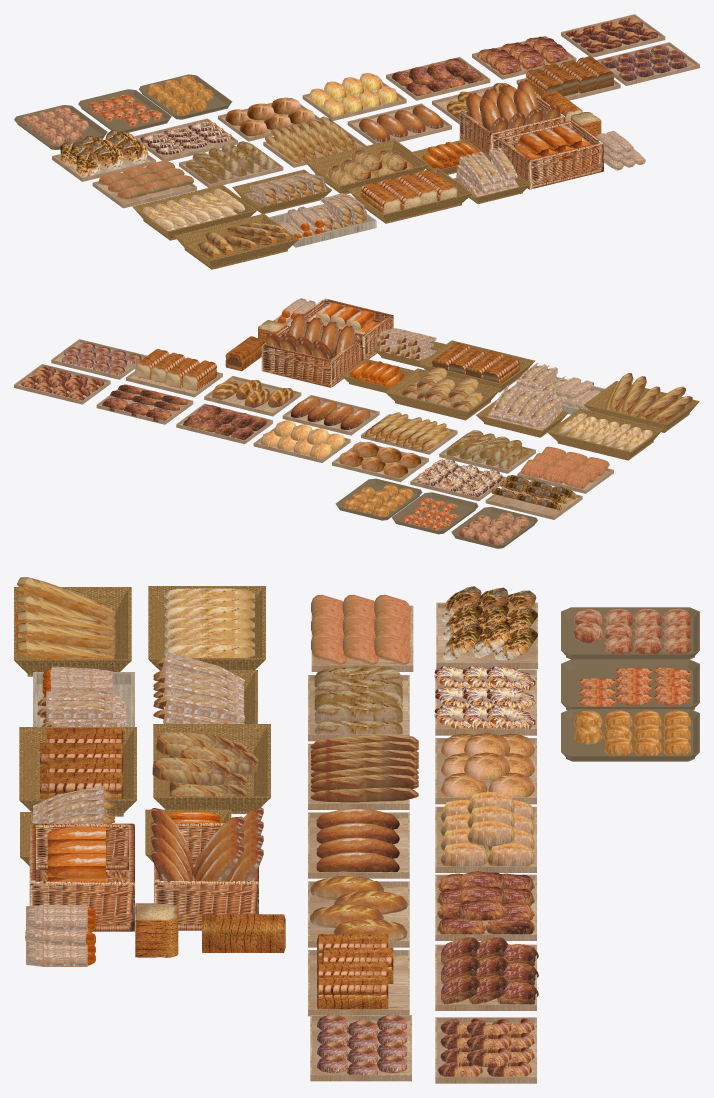
Rendered from bread_collection.glb.
The picture shows the model from 3 angles, top to bottom: view 1: azimuth 30°, elevation 25°; view 2: azimuth 150°, elevation 25°; view 3: azimuth 270°, elevation 25°; orthographic projection. The views are drawn at different scales.
Visible parts, largest first — view 1: Material3 (×16), Material2 (×11); view 2: Material3 (×16), Material2 (×11); view 3: Material3 (×16), Material2 (×11).
Boxes of the visible parts, x1=… form: Material3 (×16): x1=22, y1=18, x2=687, y2=257; Material2 (×11): x1=14, y1=14, x2=699, y2=269; Material3 (×16): x1=20, y1=302, x2=692, y2=545; Material2 (×11): x1=14, y1=298, x2=699, y2=548; Material3 (×16): x1=14, y1=577, x2=691, y2=1076; Material2 (×11): x1=14, y1=586, x2=699, y2=1083.
Bounding box in the file's own units: 166 × 12.41 × 101.
Materials: 50 (46 with a texture image).
